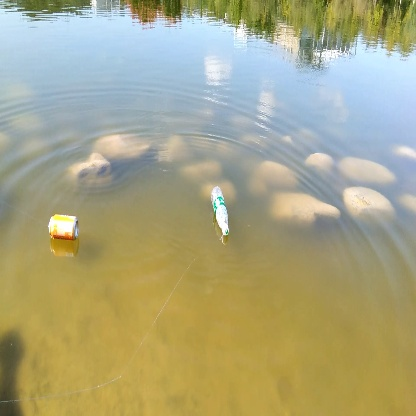bottle: (205, 185, 234, 238), (44, 210, 85, 242)
